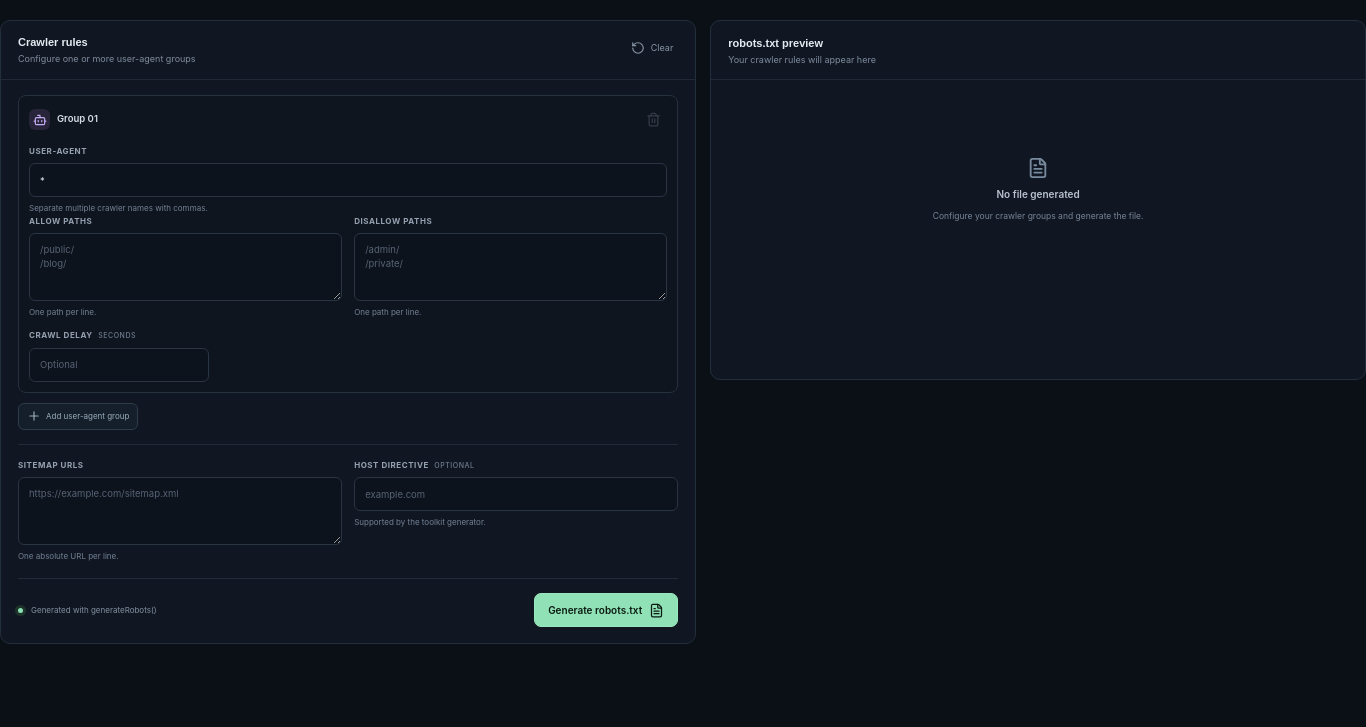
it: SEO generator interactions › adds a robots user-agent group and renders generated robots text
Click the button "Add user-agent group" at coordinates (78, 416), box [18, 403, 138, 430]
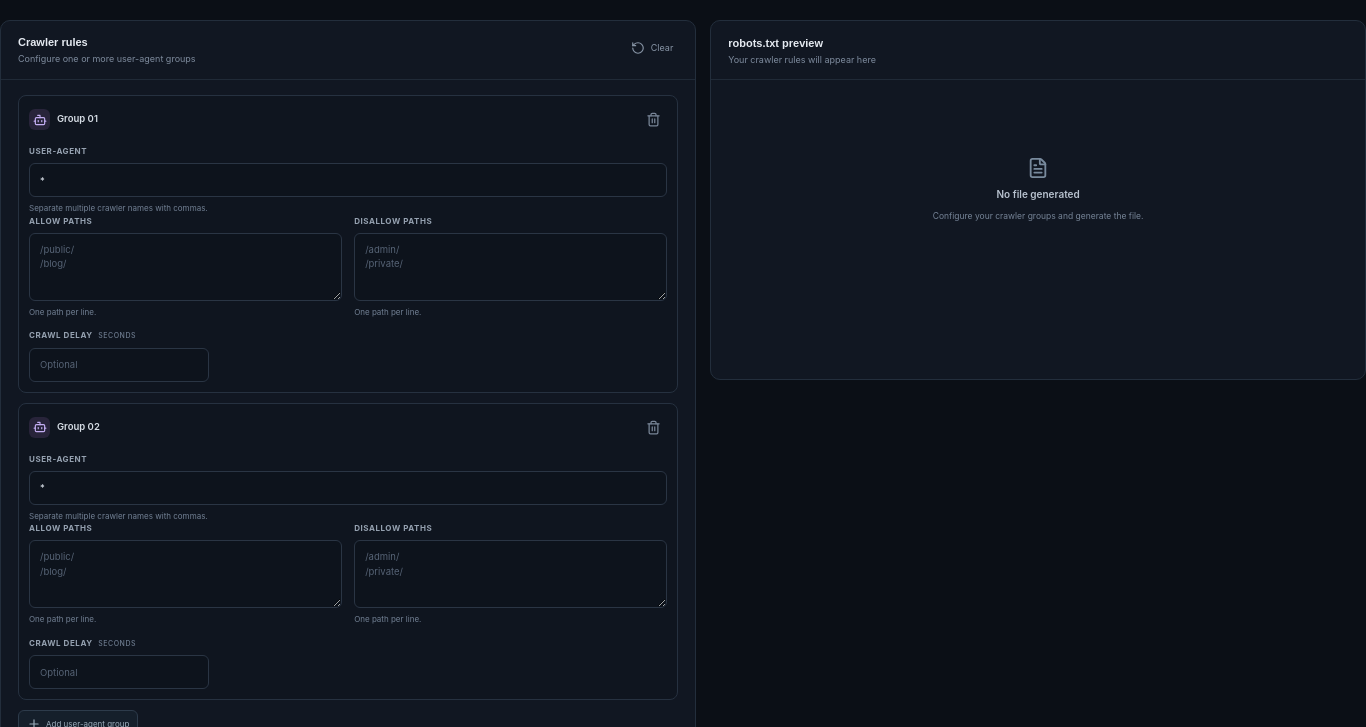
Check: the number of fields showing "*" is 2, box [29, 163, 667, 197]; [29, 471, 667, 505]
Type "/private/" into the text box with placeholder "/admin/ /private/" below "01" at coordinates (511, 267), box [354, 233, 667, 301]
(page scrolled)
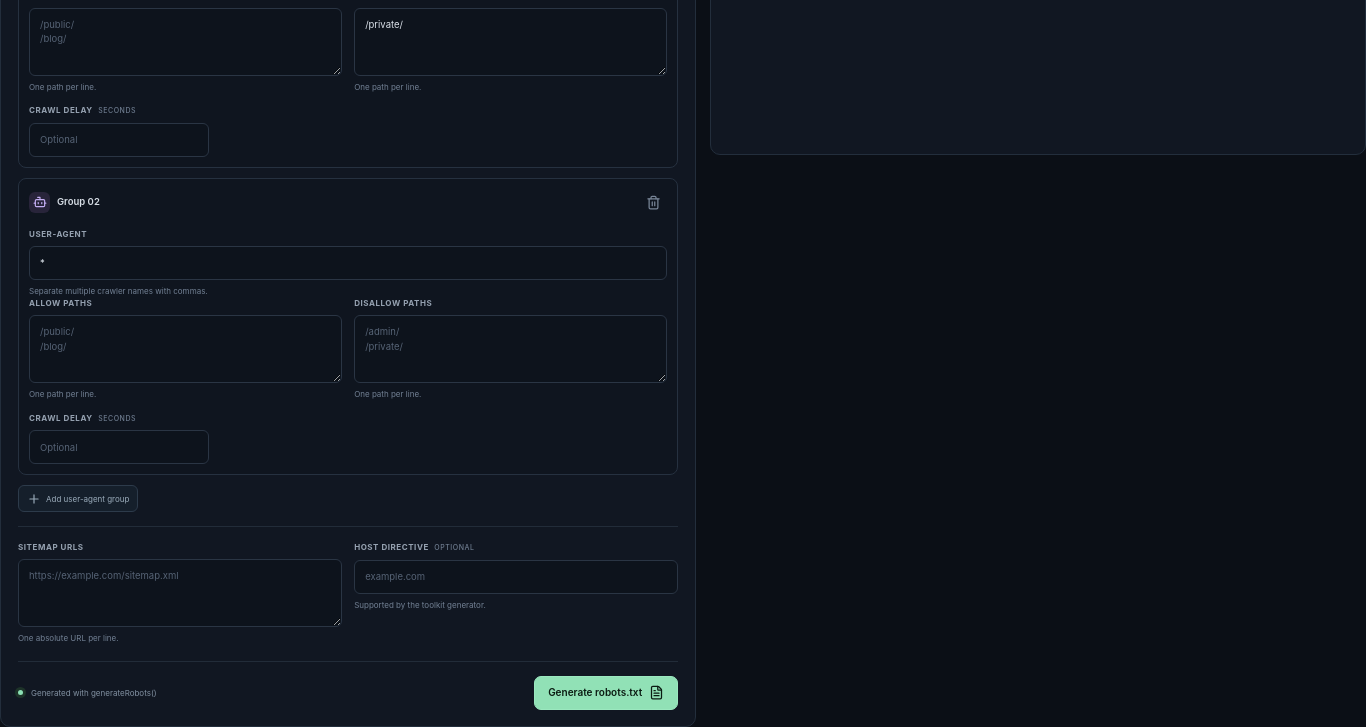
Click the button "Generate robots.txt" at coordinates (606, 693), box [534, 676, 678, 710]
(page scrolled)
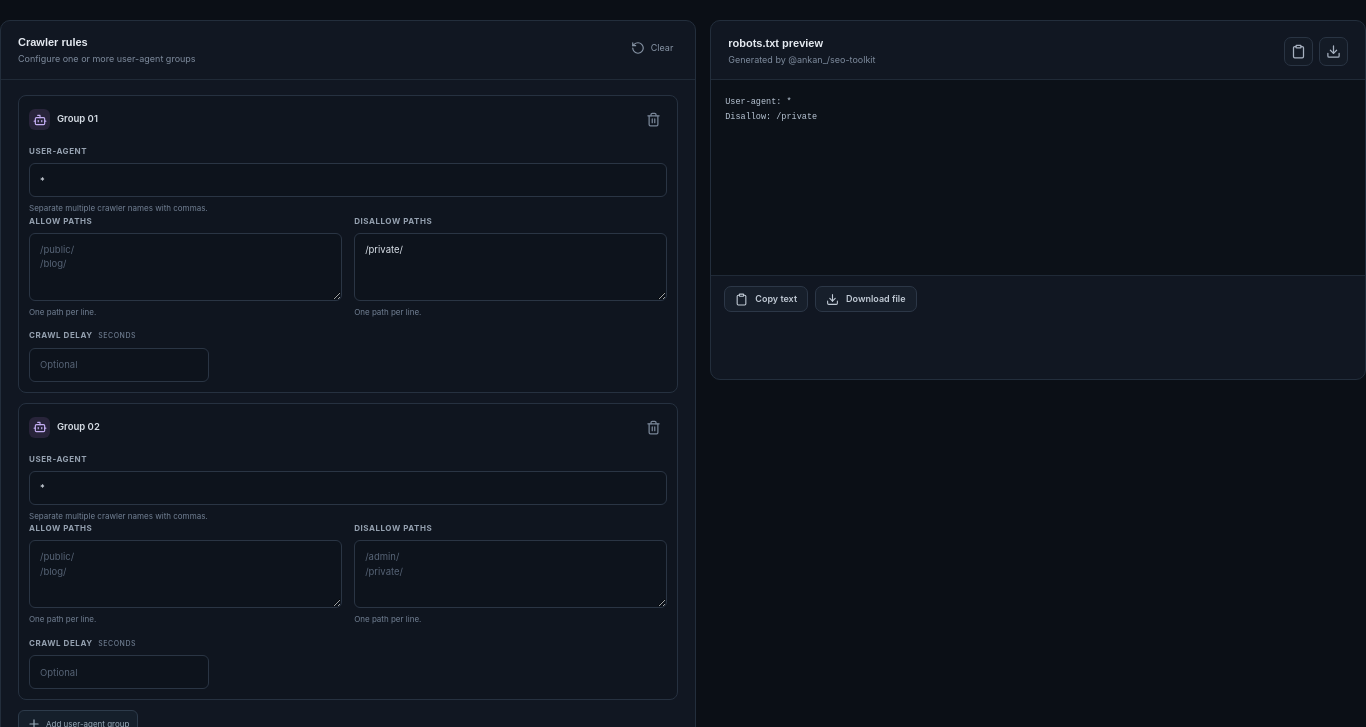
Check: the text "User-agent: * Disallow: /private" is shown, box [725, 97, 817, 122]
